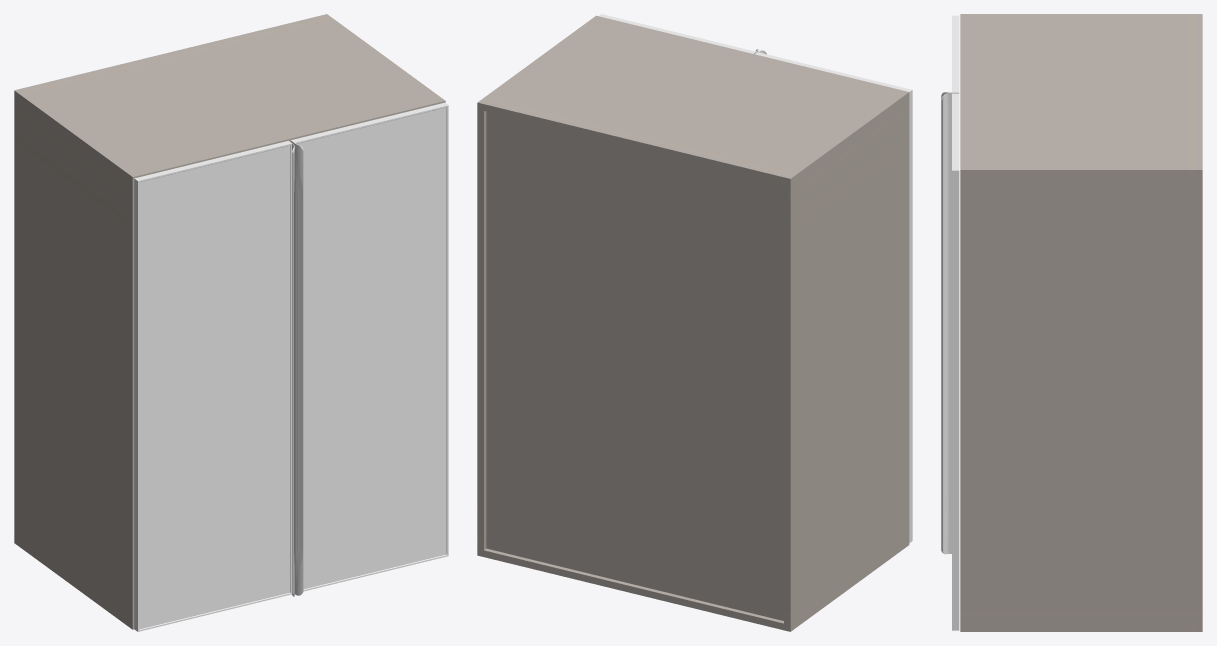
3 renders of one model, left to right at view 1: azimuth 30°, elevation 25°; view 2: azimuth 150°, elevation 25°; view 3: azimuth 270°, elevation 25°, orthographic. The views are drawn at different scales.
Parts seen in each view (by area): view 1: Object_80.002, Object_1.004, Object_4.005; view 2: Object_80.002, Object_1.004; view 3: Object_80.002, Object_4.005, Object_1.004.
Part boxes in pixels (bbox=[...]): Object_80.002: bbox=[14, 14, 445, 629]; Object_1.004: bbox=[134, 140, 294, 631]; Object_4.005: bbox=[290, 102, 448, 595]; Object_80.002: bbox=[477, 15, 909, 631]; Object_1.004: bbox=[755, 50, 912, 542]; Object_80.002: bbox=[960, 14, 1202, 631]; Object_4.005: bbox=[941, 93, 959, 630]; Object_1.004: bbox=[941, 15, 959, 99].
Size of the model in its own units: 0.868 by 1.2 by 0.6149.
Materials: 3 (1 with a texture image).
